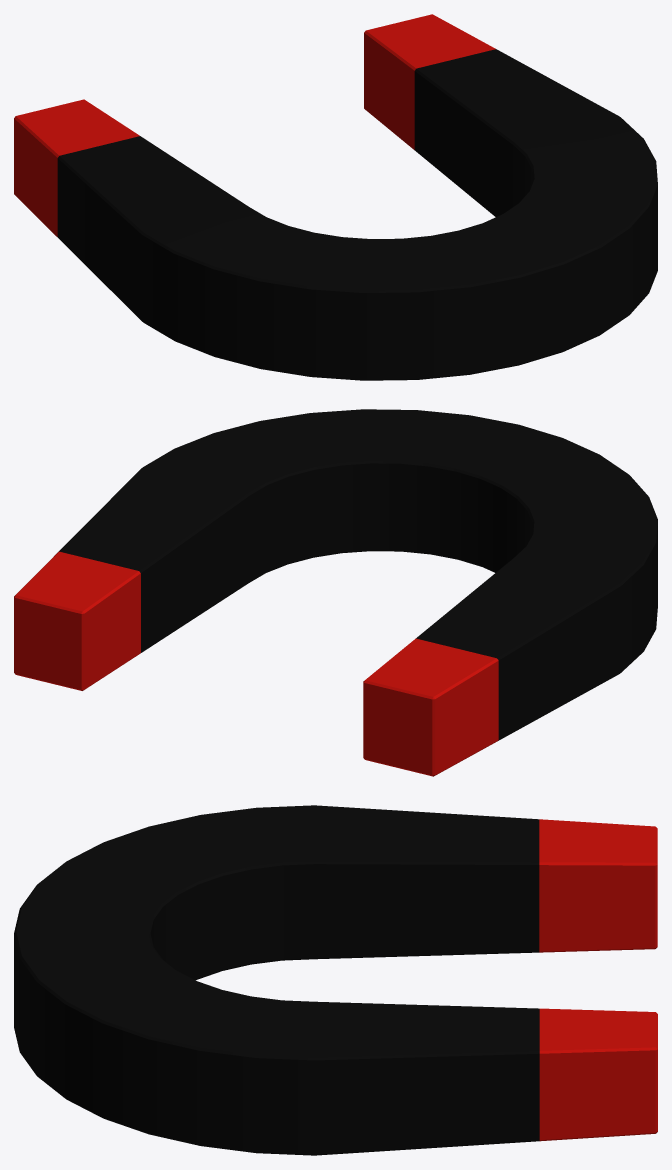
File: magnes.FBX
3 views of the same model, one above another, from view 1: azimuth 30°, elevation 25°; view 2: azimuth 150°, elevation 25°; view 3: azimuth 270°, elevation 25° (orthographic). The views are drawn at different scales.
Visible parts, largest first — view 1: magnes; view 2: magnes; view 3: magnes.
Part boxes in pixels (x1,y1,x2,y2): magnes: [14, 14, 657, 380]; magnes: [14, 409, 657, 776]; magnes: [14, 805, 657, 1155].
Size of the model in its own units: 1.37 by 0.246 by 1.46.
